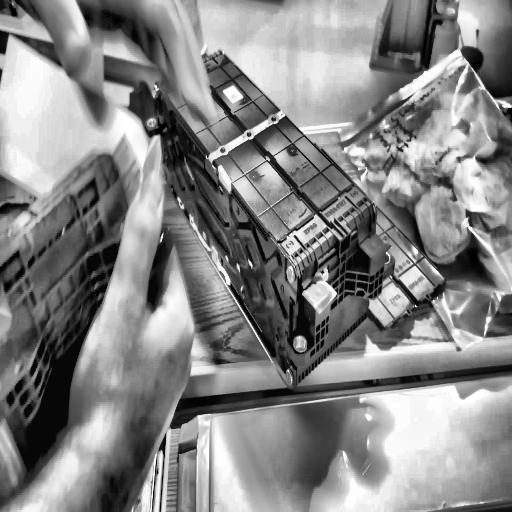battery_module: (157, 49, 379, 274)
